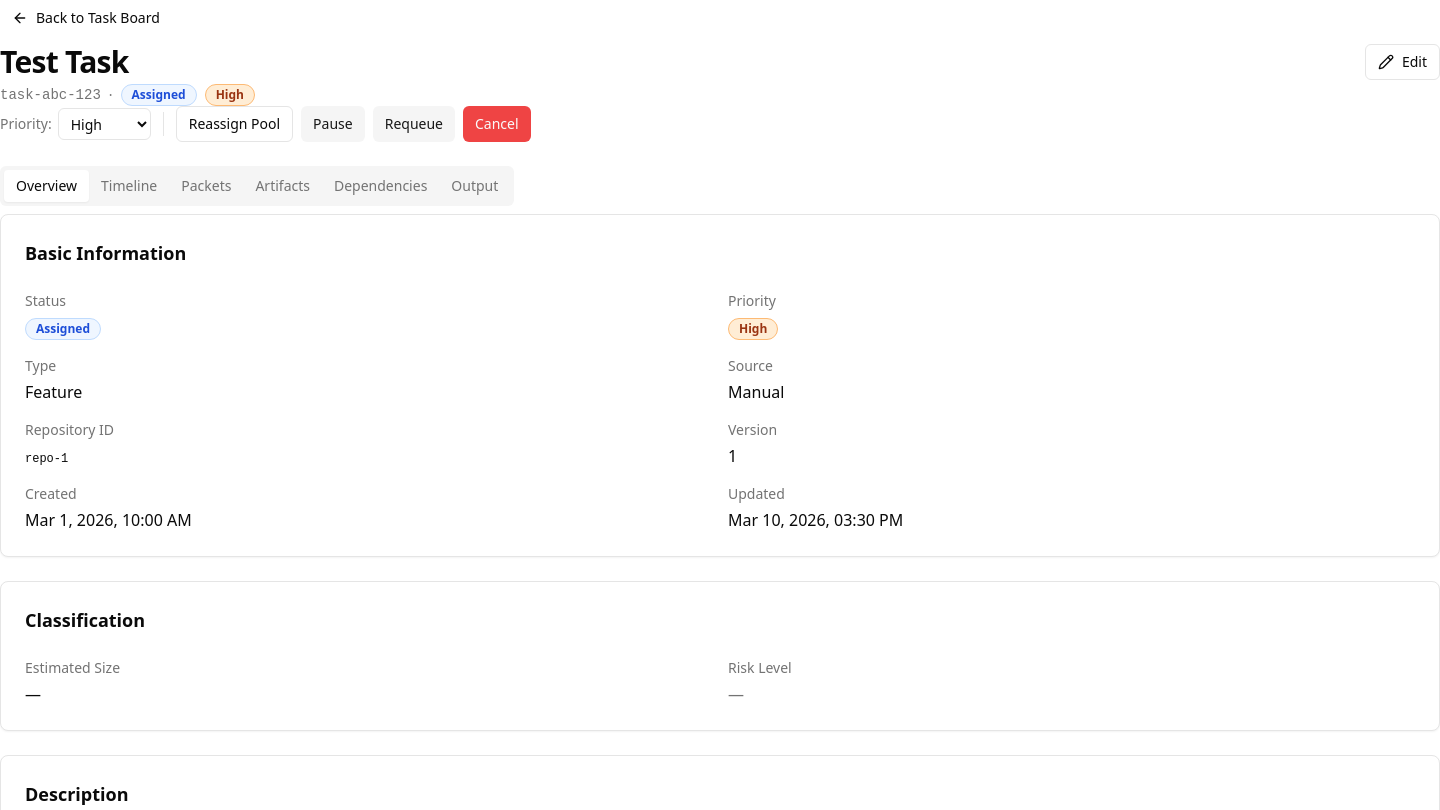
Test case: TaskActionBar integration › shows error feedback when action fails
Click the button with test id "action-btn-pause": (333, 124) [301,106,365,142]
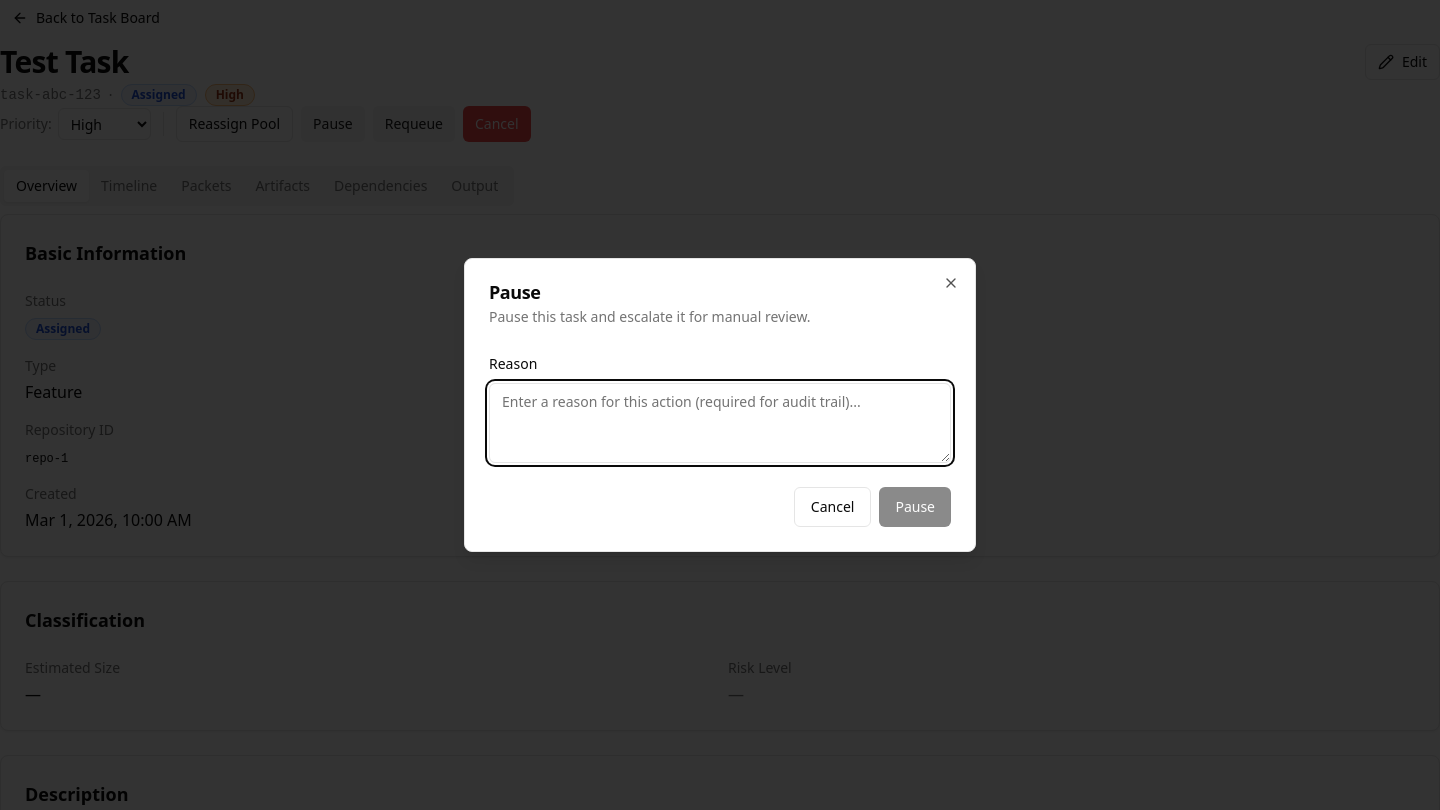
expect the dialog with test id "confirm-action-dialog" is shown: met, box [464,258,976,552]
In the text box with test id "confirm-dialog-reason": (720, 423) [489,383,951,463], type "Test error"
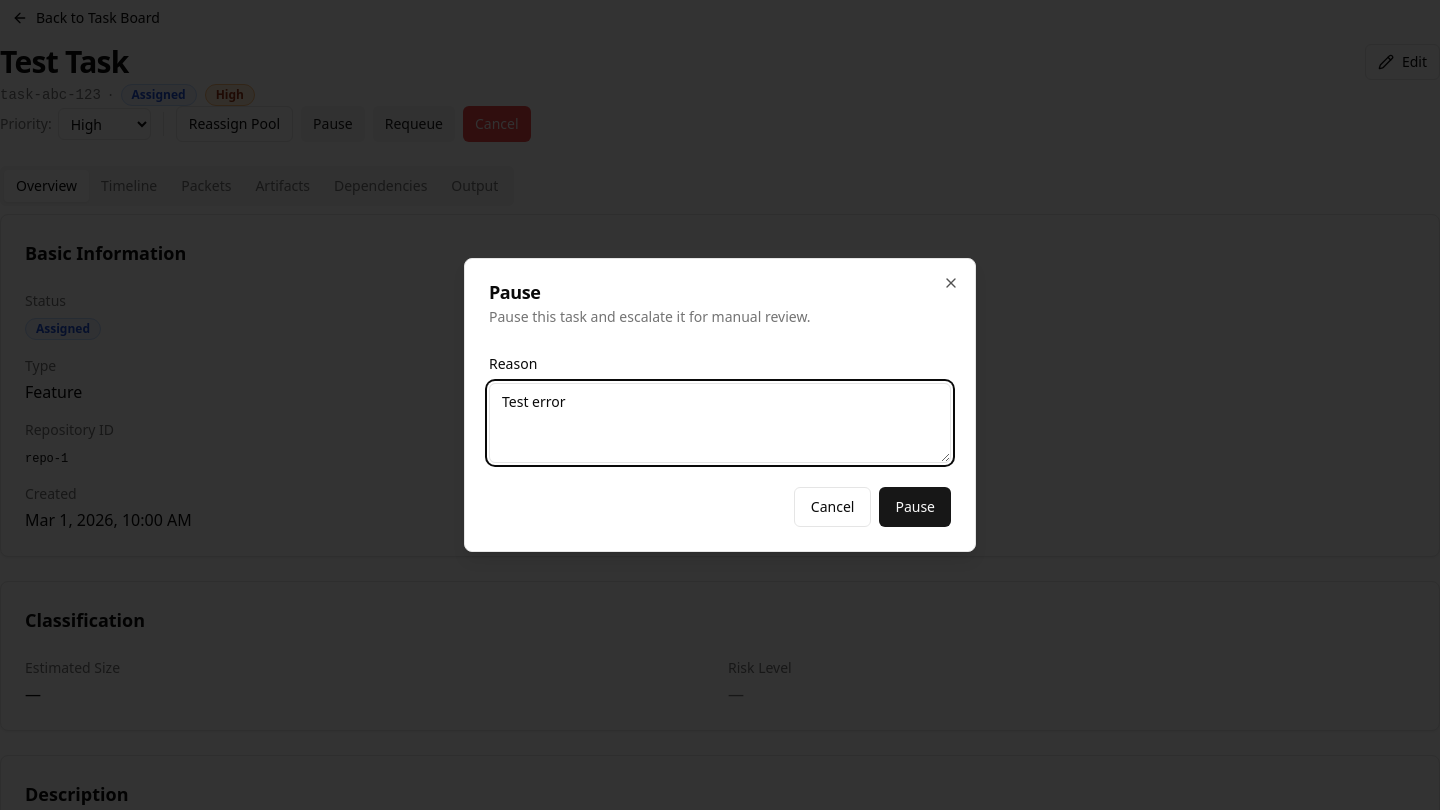
Click the button with test id "confirm-dialog-submit": (915, 507) [879,487,951,527]
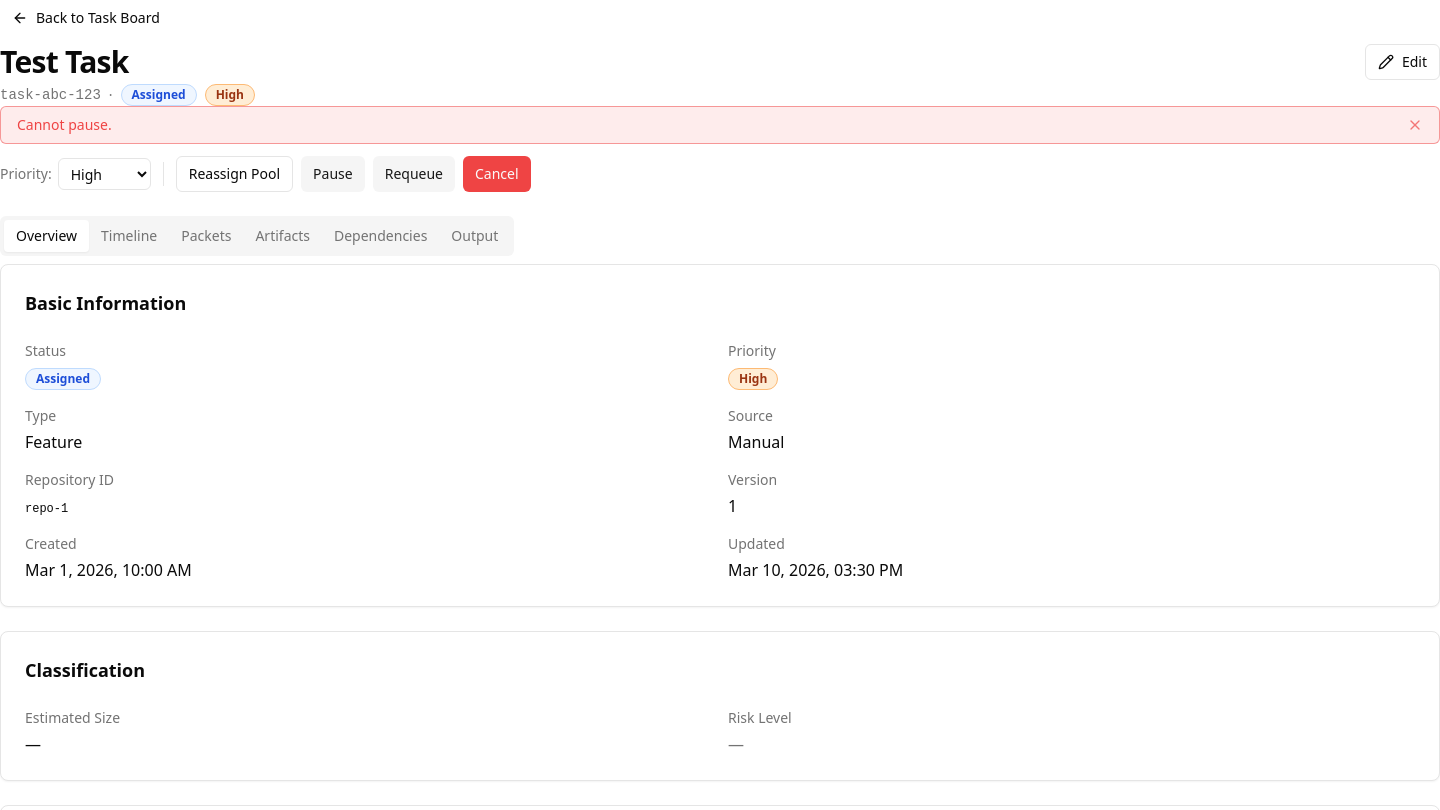
expect the message with test id "action-feedback" reads "Cannot pause.": met, box [17,115,112,134]
